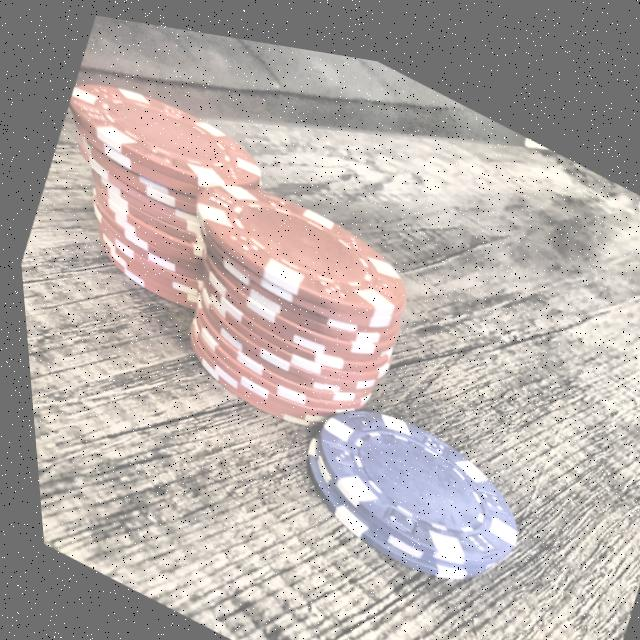Chip: (131, 139, 431, 462), (16, 47, 288, 336), (270, 363, 541, 608)
